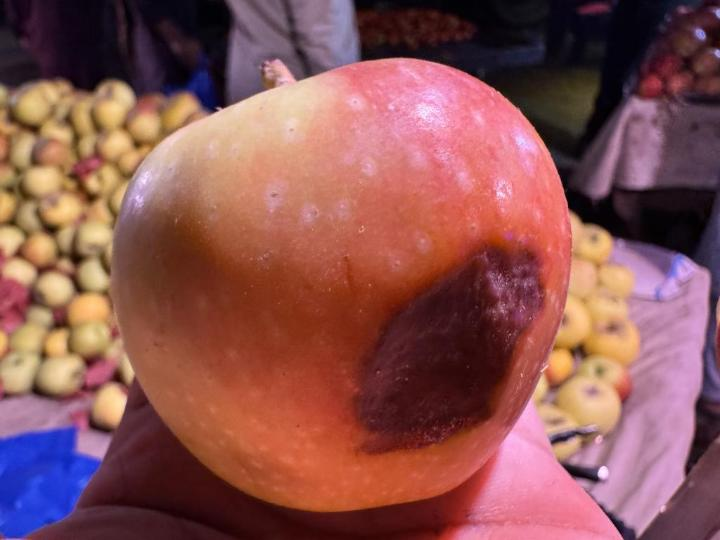apple: (112, 59, 571, 512)
rot_mold_decay: (354, 244, 546, 455)
